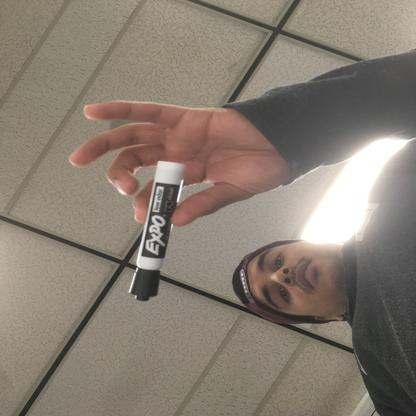expo_marker: (123, 158, 188, 305)
